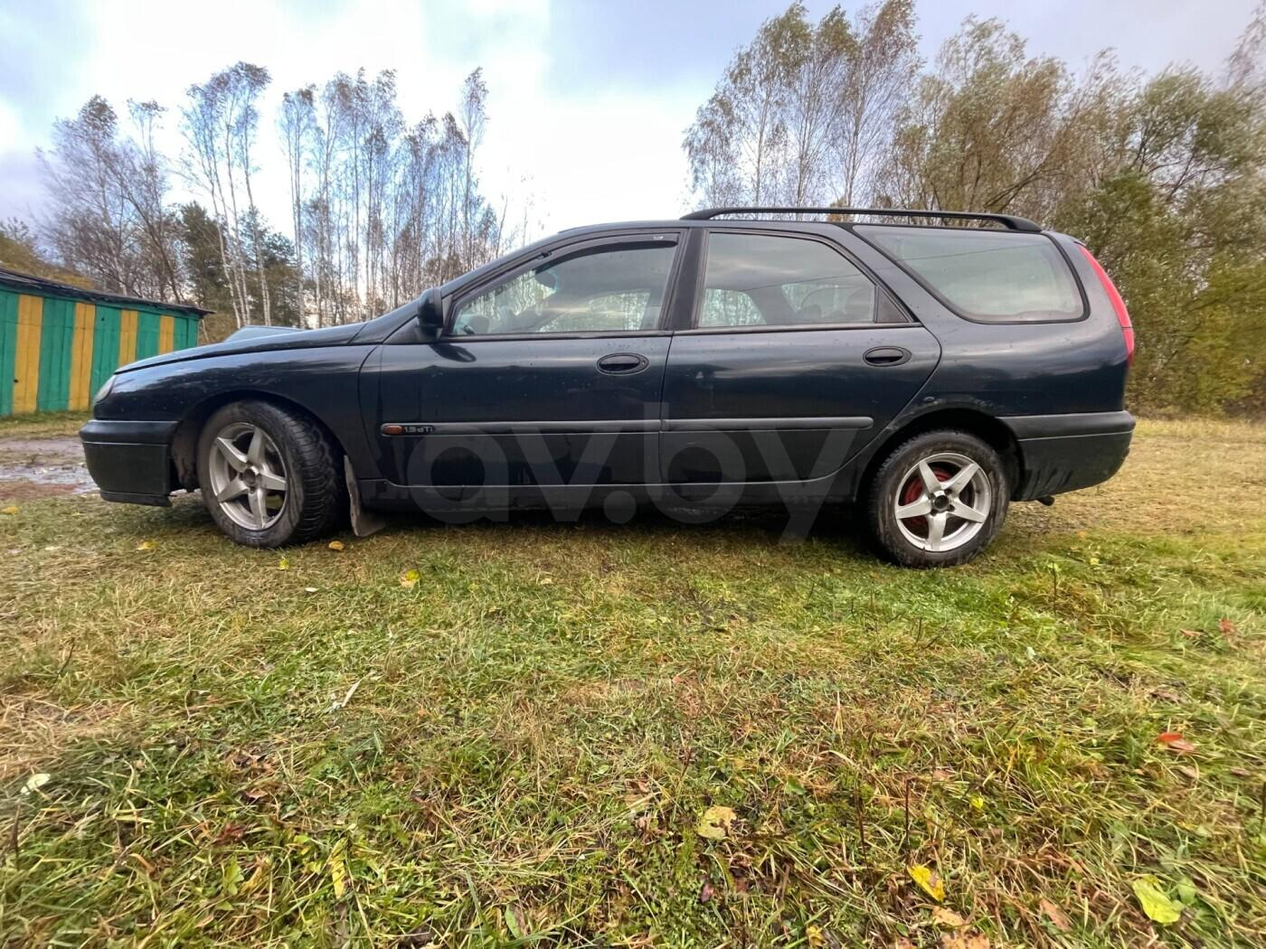Laguna_1998-2001: (75, 203, 1142, 560)
